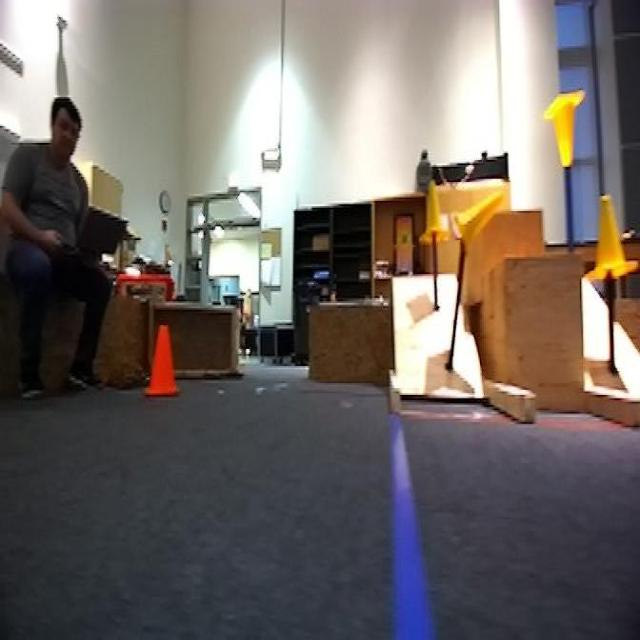frc_cone: (584, 185, 636, 281), (542, 92, 583, 172), (457, 189, 509, 247), (418, 181, 449, 245)
